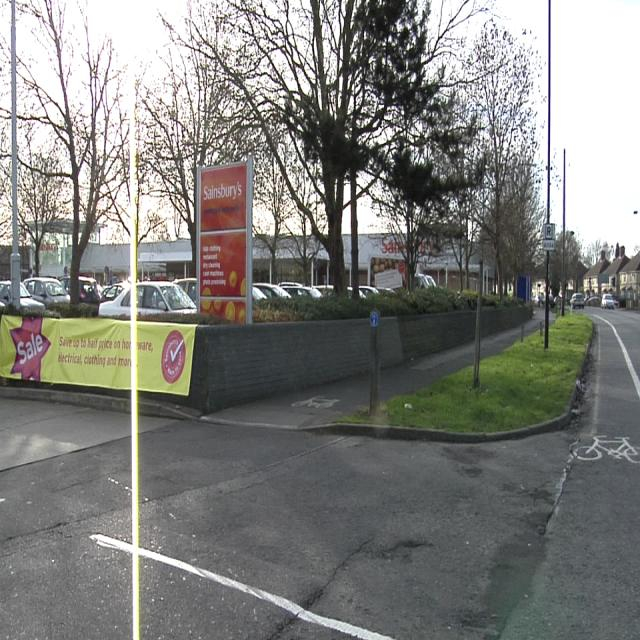Building: (587, 249, 639, 306), (1, 3, 10, 246), (140, 238, 192, 280)
Car: (139, 282, 196, 319), (20, 277, 68, 312), (253, 284, 319, 301), (0, 282, 10, 307), (602, 294, 615, 307), (571, 294, 583, 308)
Road: (125, 310, 639, 636)
Tree: (186, 0, 544, 296), (15, 0, 373, 294), (565, 230, 588, 302), (551, 232, 562, 295)
